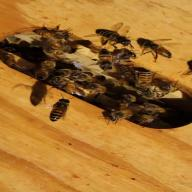Bee: (135, 30, 180, 67), (86, 20, 137, 52), (50, 94, 76, 122)
